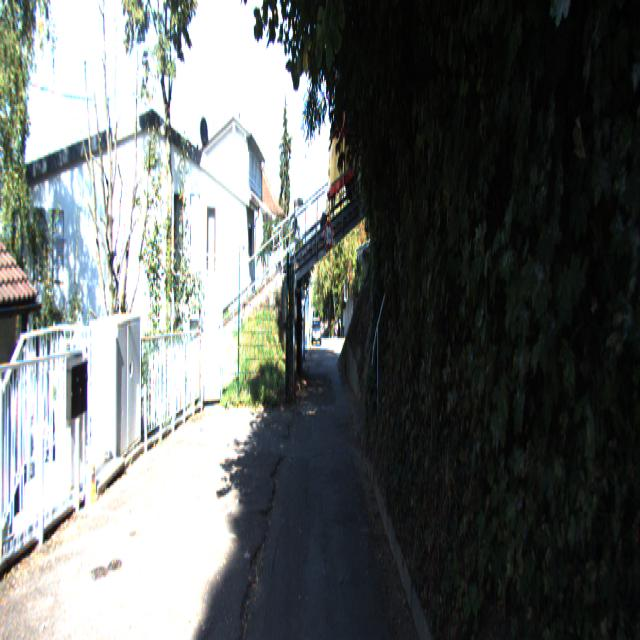Car: (312, 316, 321, 346)
